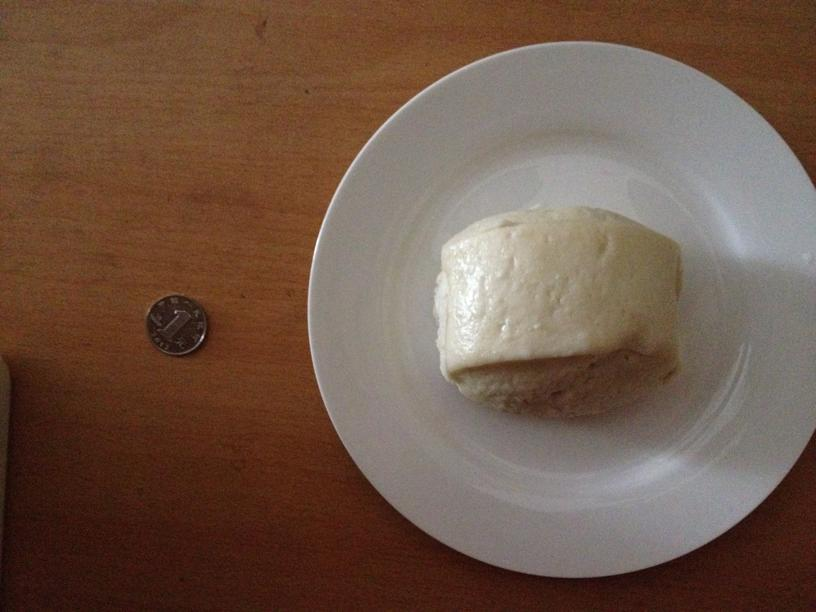bun: (432, 202, 684, 417)
coin: (141, 293, 212, 356)
